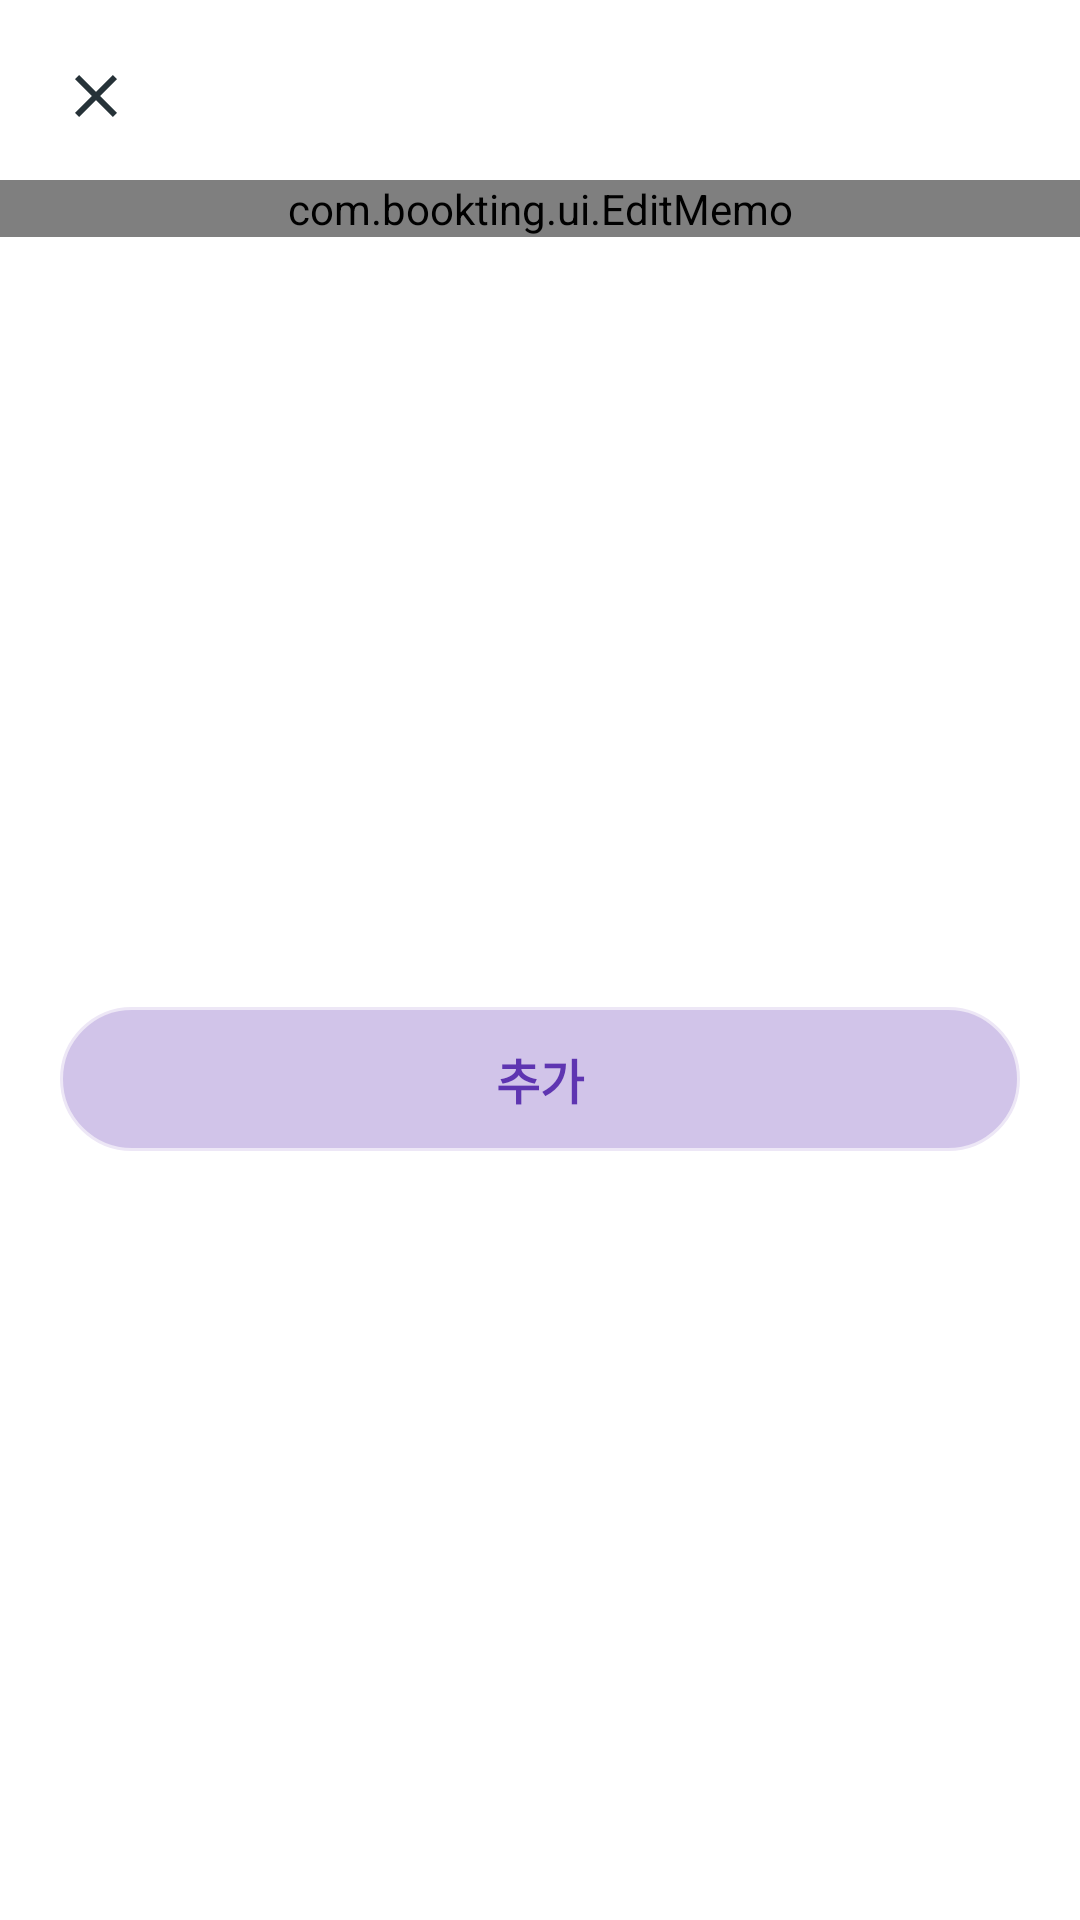

Screen size 1080x1920. Icon name, then its center in pixels as point (x, y):
close: point (96, 96)
